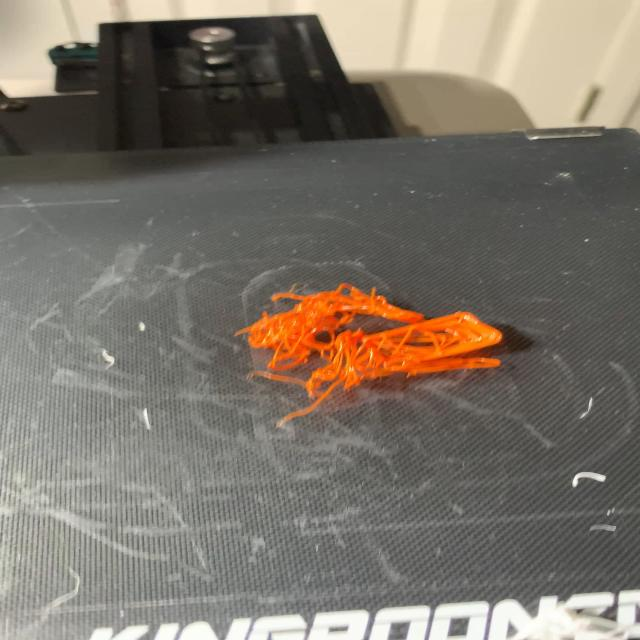spaghetti: (232, 281, 505, 429)
